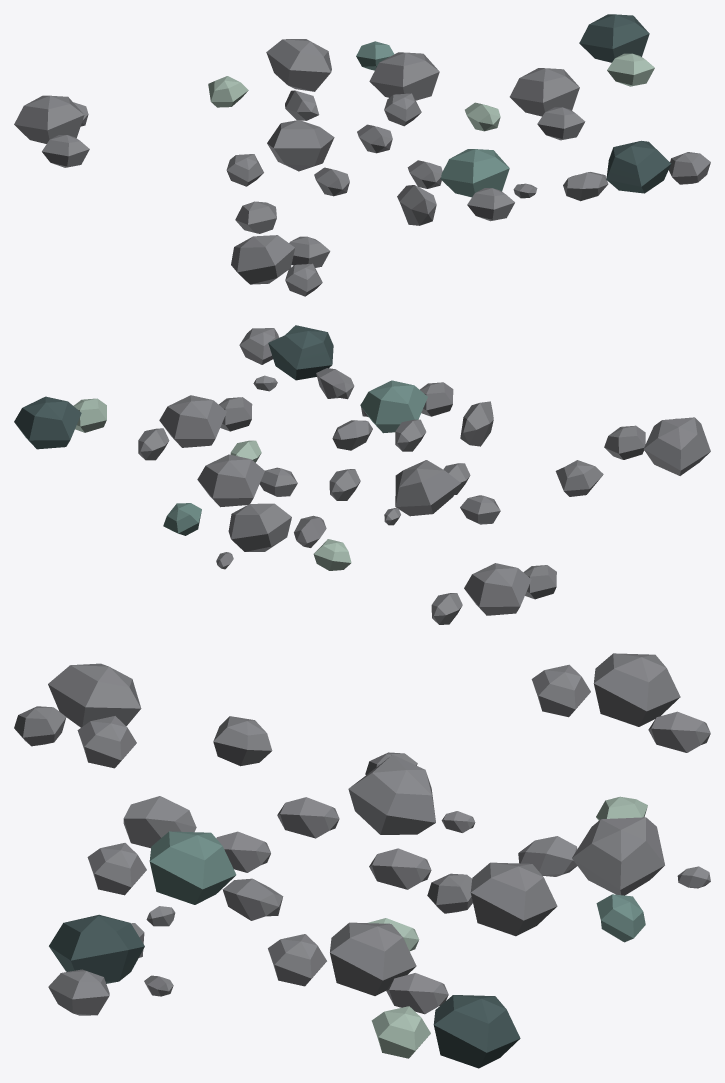
Rendered from SM_Tile_Rock.fbx.
The picture shows the model from 3 angles, top to bottom: view 1: azimuth 30°, elevation 25°; view 2: azimuth 150°, elevation 25°; view 3: azimuth 270°, elevation 25°; orthographic projection. The views are drawn at different scales.
Visible parts, largest first — view 1: SM_Rock; view 2: SM_Rock; view 3: SM_Rock.
Part boxes in pixels (box(x1,y1,x2,y2)): SM_Rock: box(14, 14, 710, 296); SM_Rock: box(14, 325, 710, 624); SM_Rock: box(14, 653, 710, 1068).
Bounding box in the file's own units: 114 × 10.33 × 87.21.
